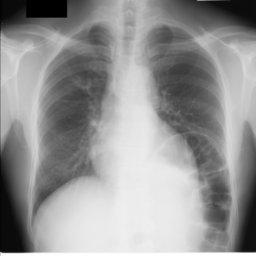left lobe: (146, 25, 232, 252)
right lobe: (36, 25, 112, 214)
trachea: (124, 0, 136, 54)
